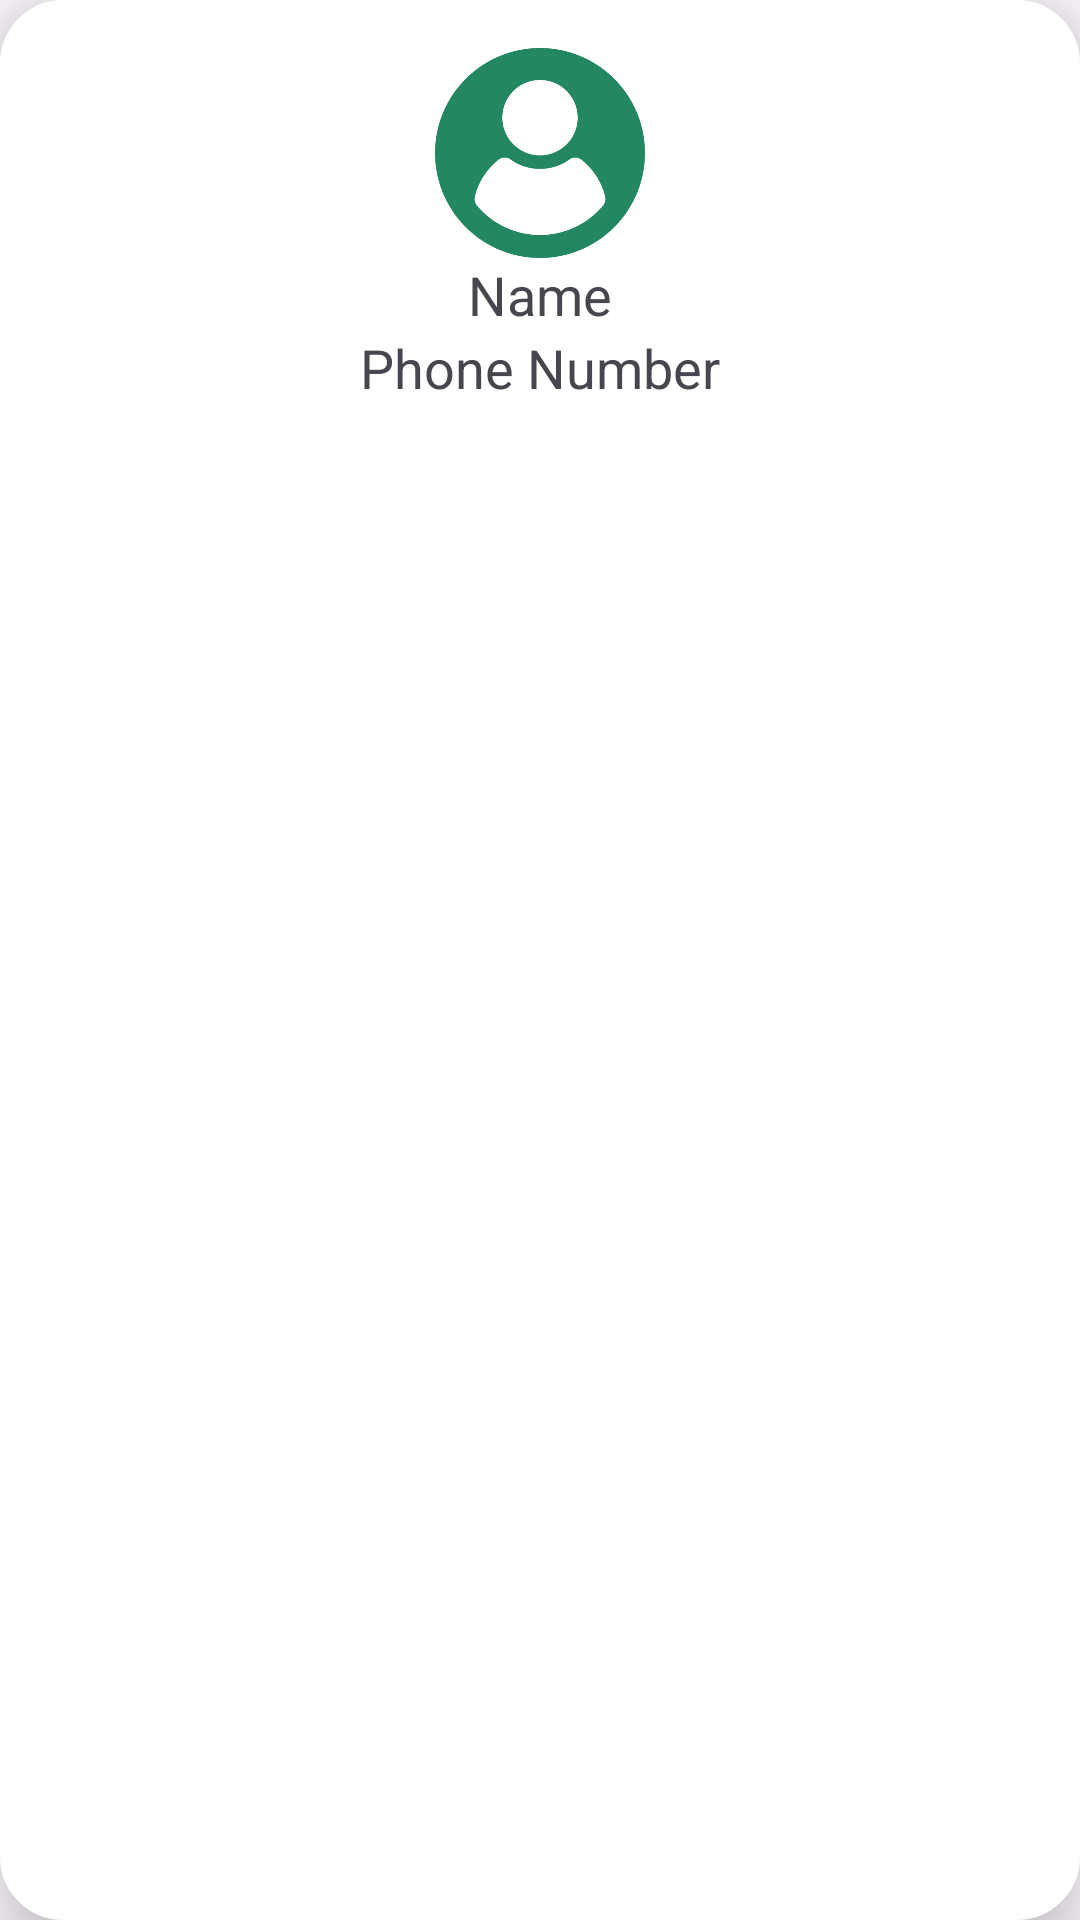

Icons on this 1080 x 1920 Android screen, each with its box as {"left": x1, "top": y1, "right": x2, "bottom": y2}:
user: {"left": 435, "top": 48, "right": 645, "bottom": 258}
